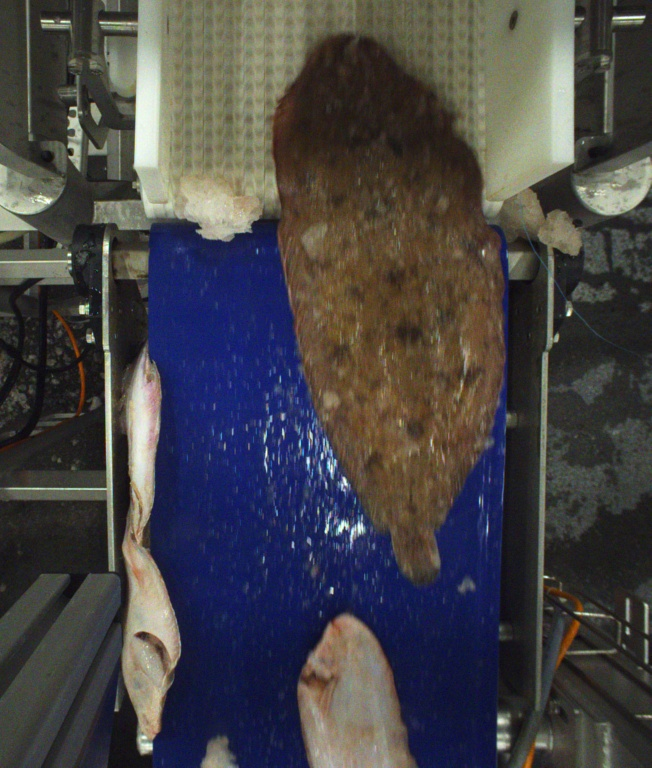SOL: (299, 613, 425, 767)
